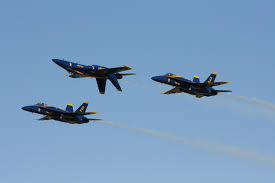plane: (50, 58, 136, 95), (151, 71, 232, 98), (20, 100, 100, 124)
